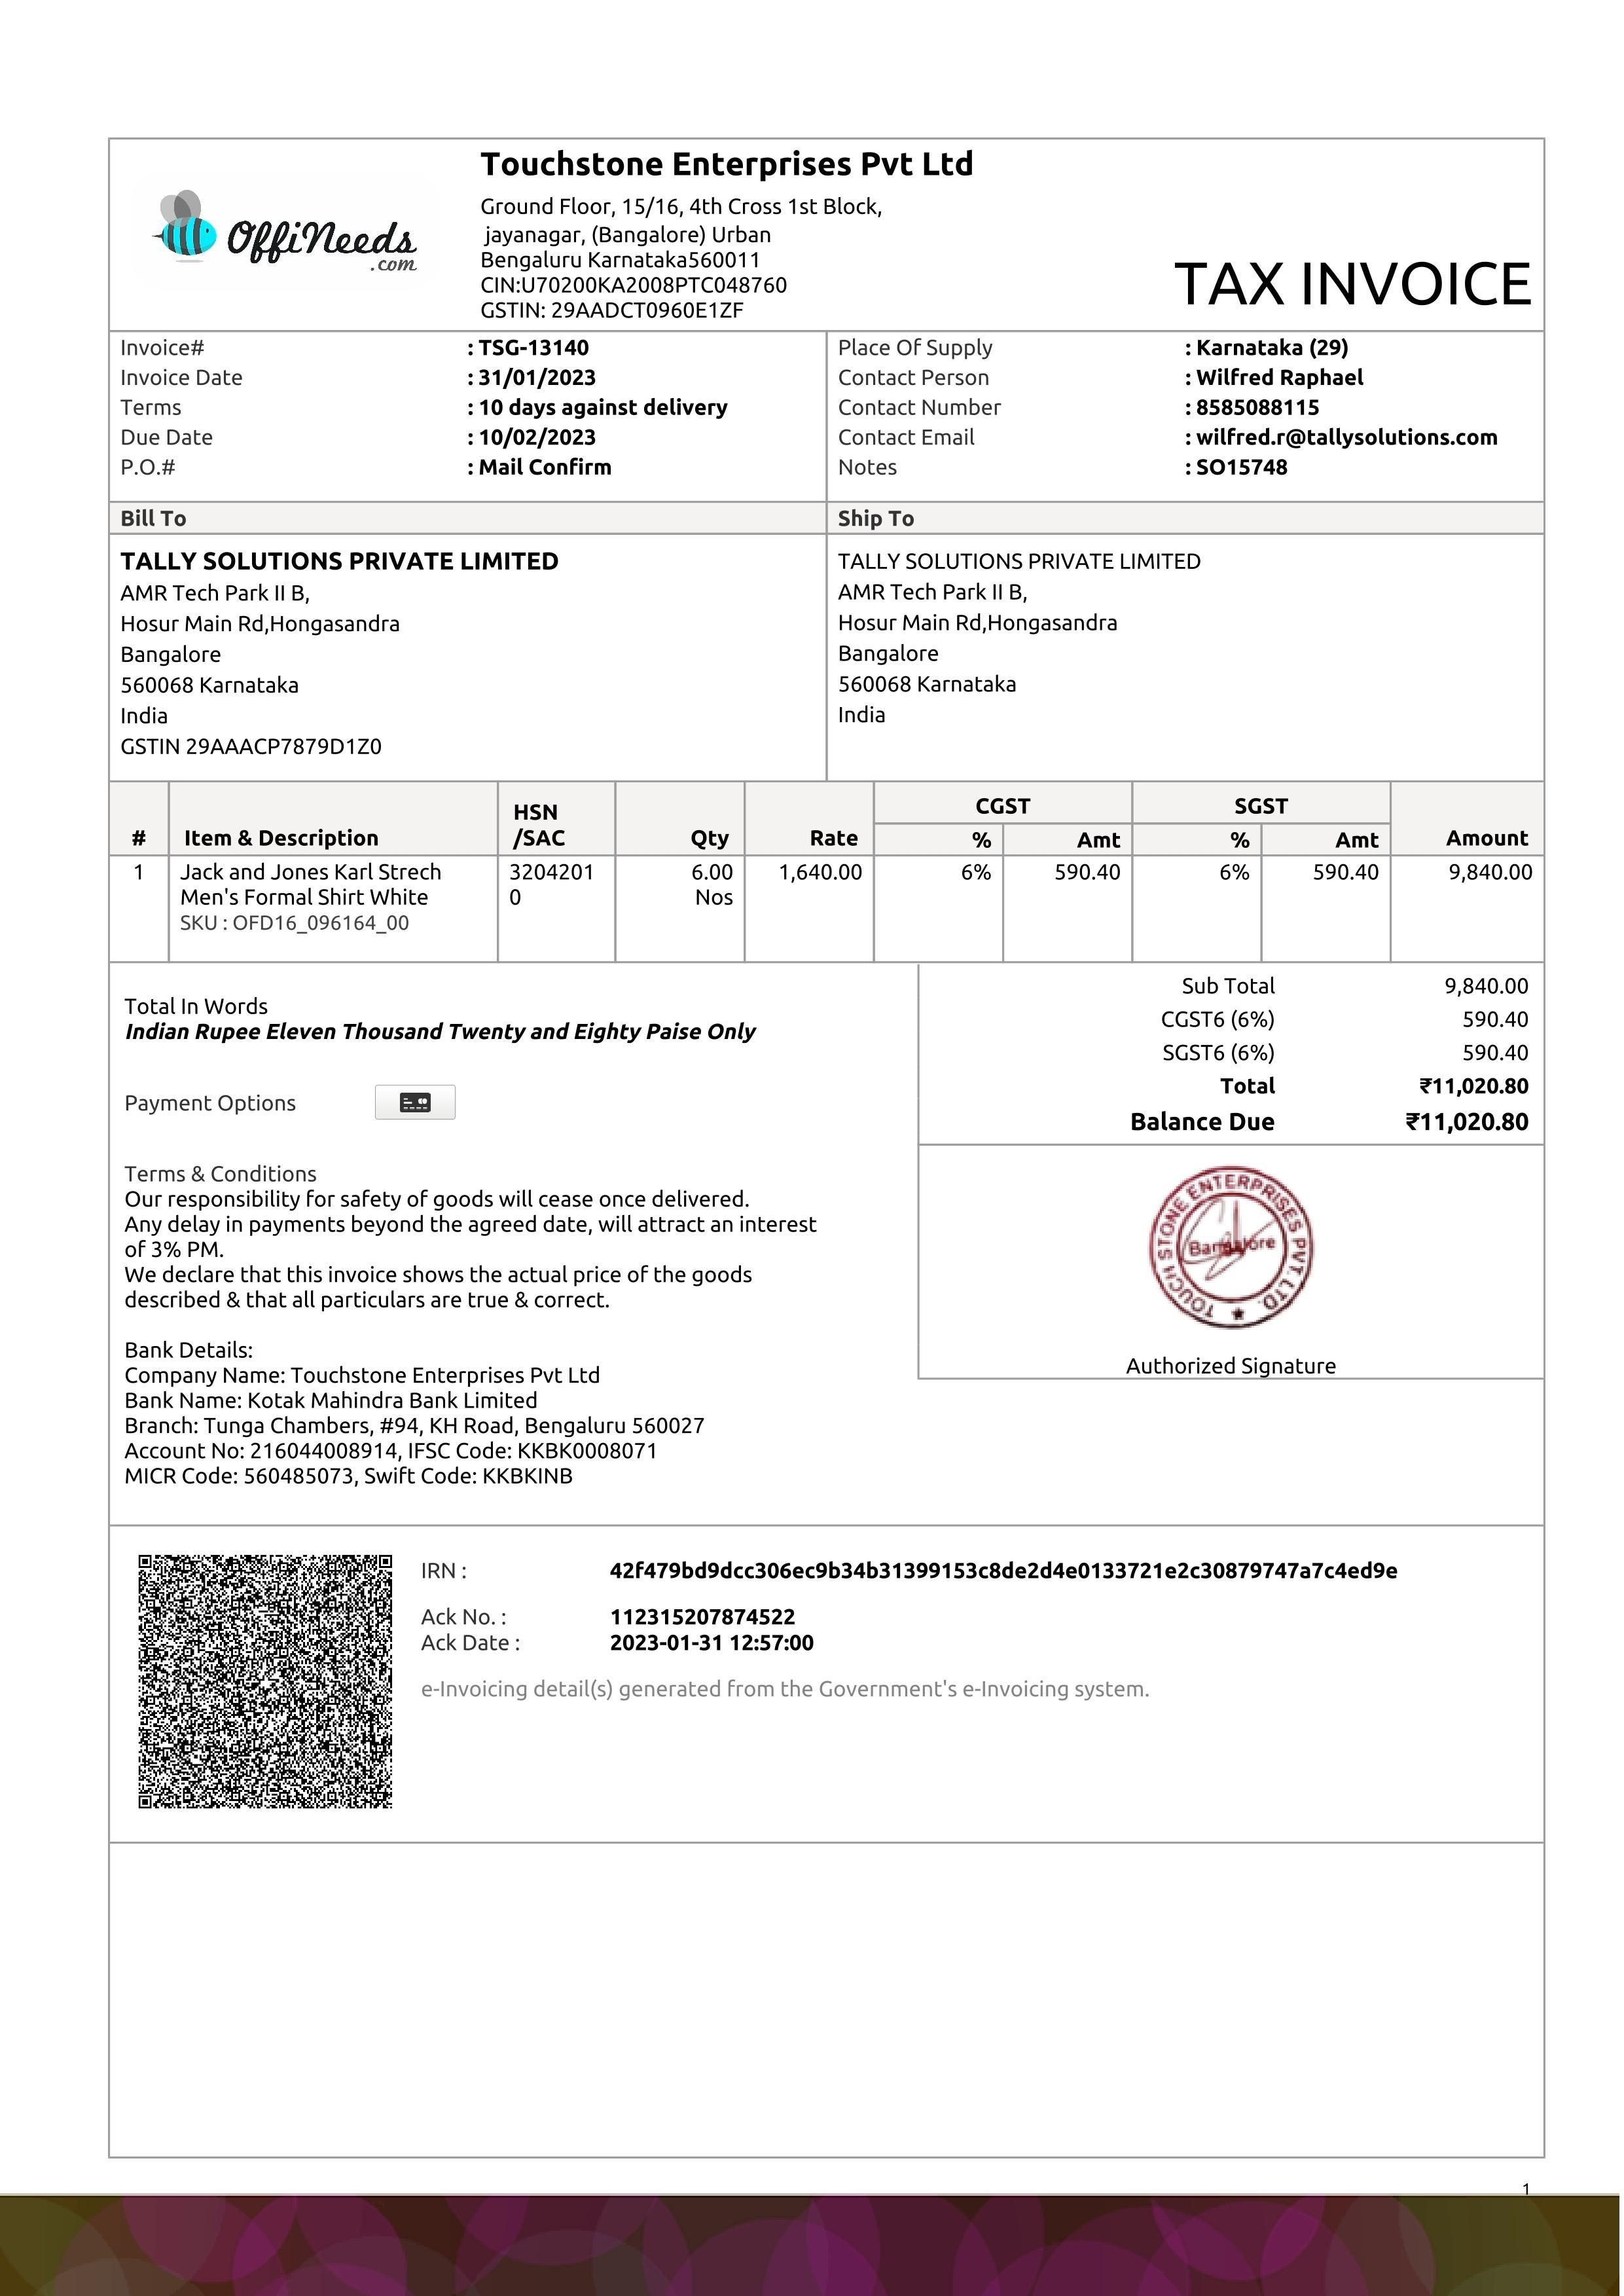InvoiceDate: (468, 362, 603, 394)
InvoiceNumber: (473, 329, 596, 364)
TotalAmount: (1413, 1074, 1534, 1104)
